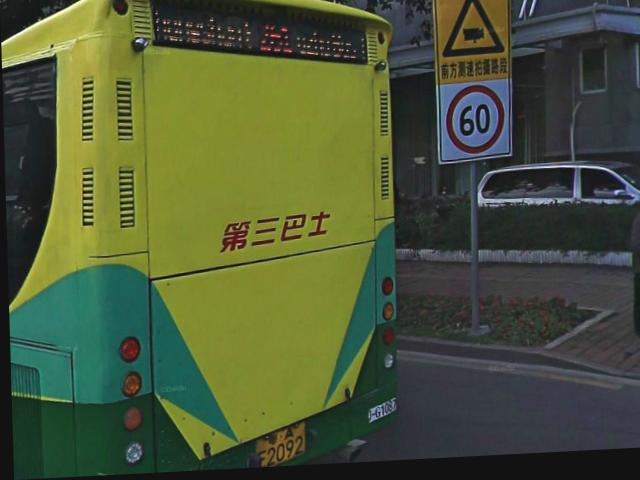limit60: (446, 90, 505, 157)
